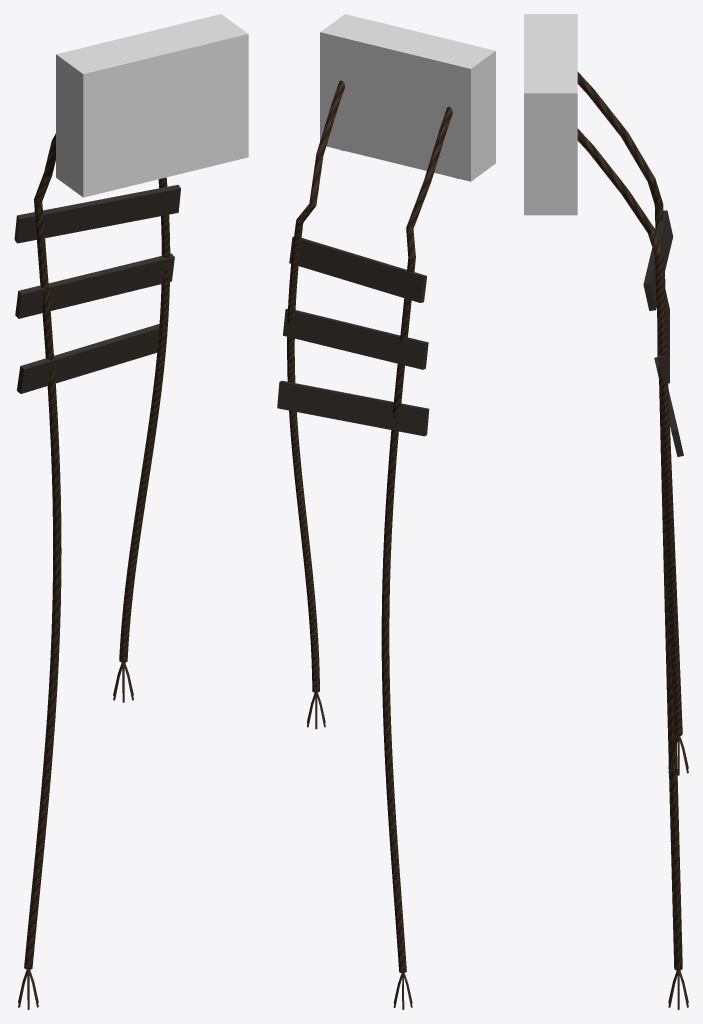
File: dress_cliff_rope_remnant.glb
3 renders of one model, left to right at view 1: azimuth 30°, elevation 25°; view 2: azimuth 150°, elevation 25°; view 3: azimuth 270°, elevation 25°, orthographic. The views are drawn at different scales.
Parts seen in each view (by area): view 1: col_block_rope_posts, dress_cliff_rope_remnant; view 2: dress_cliff_rope_remnant, col_block_rope_posts; view 3: dress_cliff_rope_remnant, col_block_rope_posts.
Boxes of the visible parts, box(x1,y1,x2,y2) form: col_block_rope_posts: box(56, 14, 248, 197); dress_cliff_rope_remnant: box(14, 133, 180, 1009); dress_cliff_rope_remnant: box(277, 80, 458, 1009); col_block_rope_posts: box(320, 14, 495, 181); dress_cliff_rope_remnant: box(577, 72, 688, 1009); col_block_rope_posts: box(524, 14, 577, 215).
Size of the model in its own units: 1.4 by 8.05 by 1.23.
Materials: 2 (2 with a texture image).
